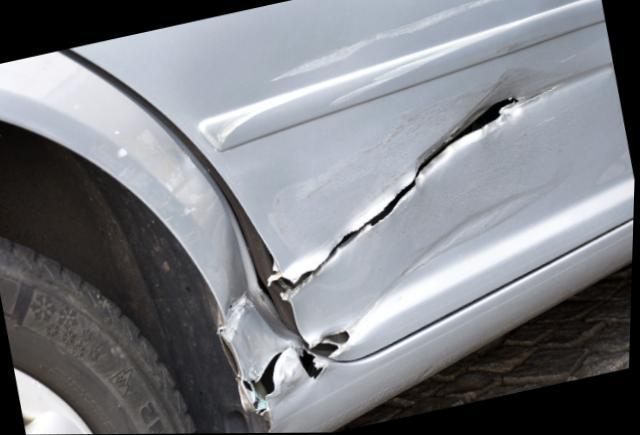crack: (285, 95, 524, 293), (256, 348, 288, 396), (312, 331, 352, 358), (301, 348, 325, 378)
scratch: (267, 61, 583, 326), (263, 0, 503, 82), (326, 32, 500, 106)
